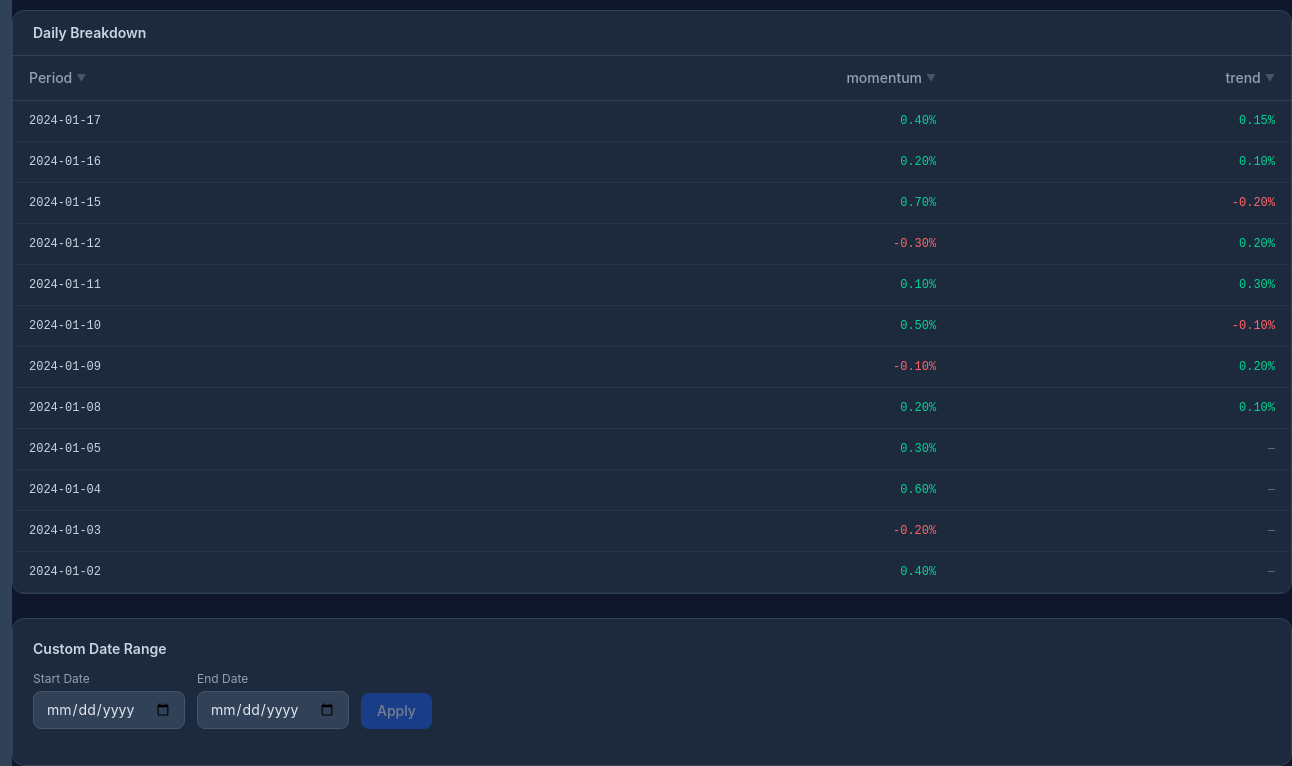
Scenario: AttributionHistory › computes a custom date-range return after Apply is clicked
The image size is (1292, 766).
(page scrolled)
In the date field below "Start Date": [109, 710] box 33,691 -> 185,729, type "2024-01-15"
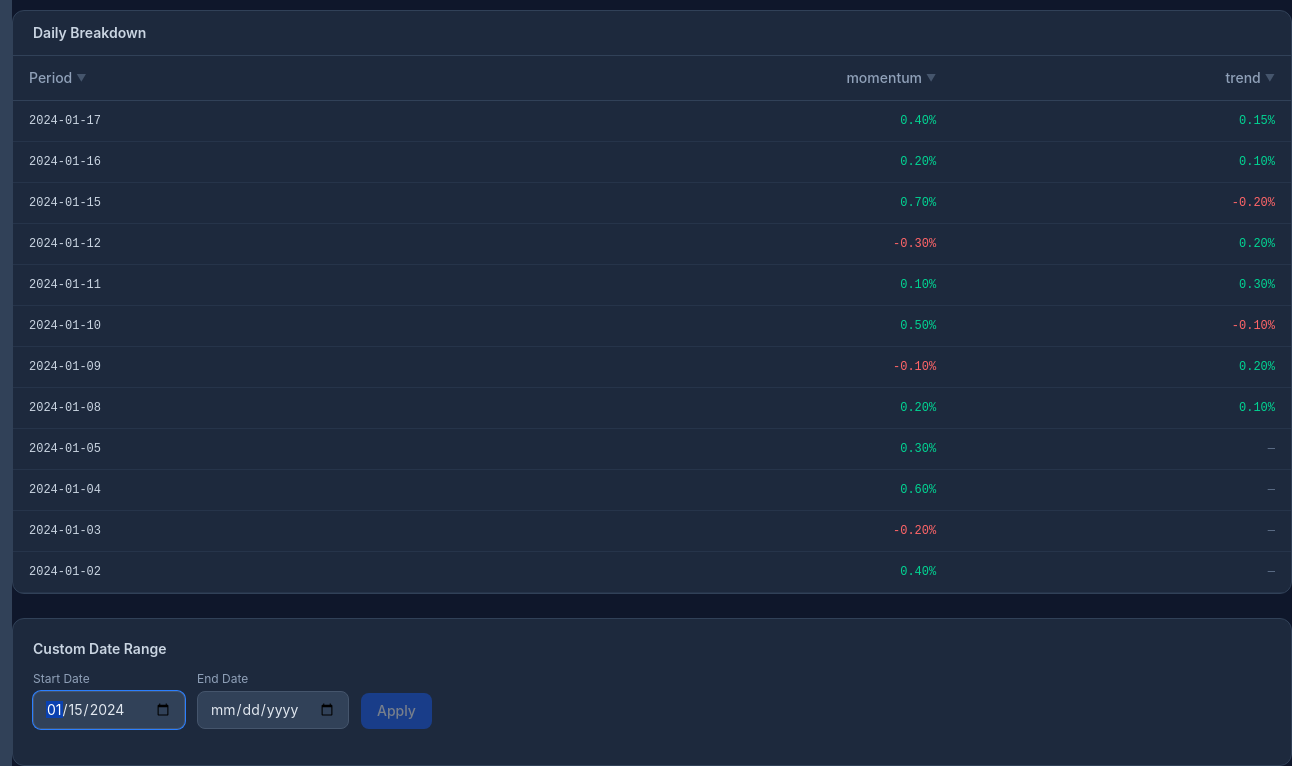
In the date field below "End Date": [273, 710] box 197,691 -> 349,729, type "2024-01-17"
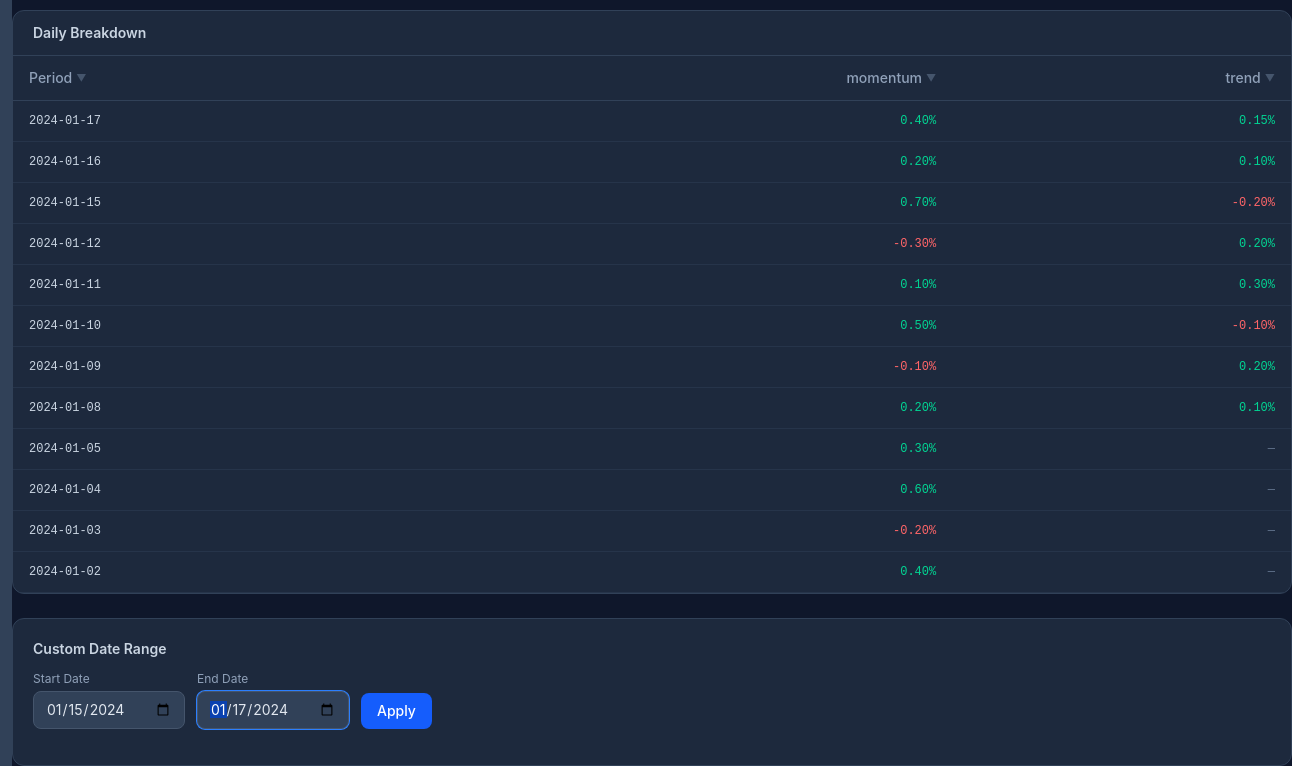
Click the button "Apply": [396, 711] box 361,693 -> 432,729
(page scrolled)
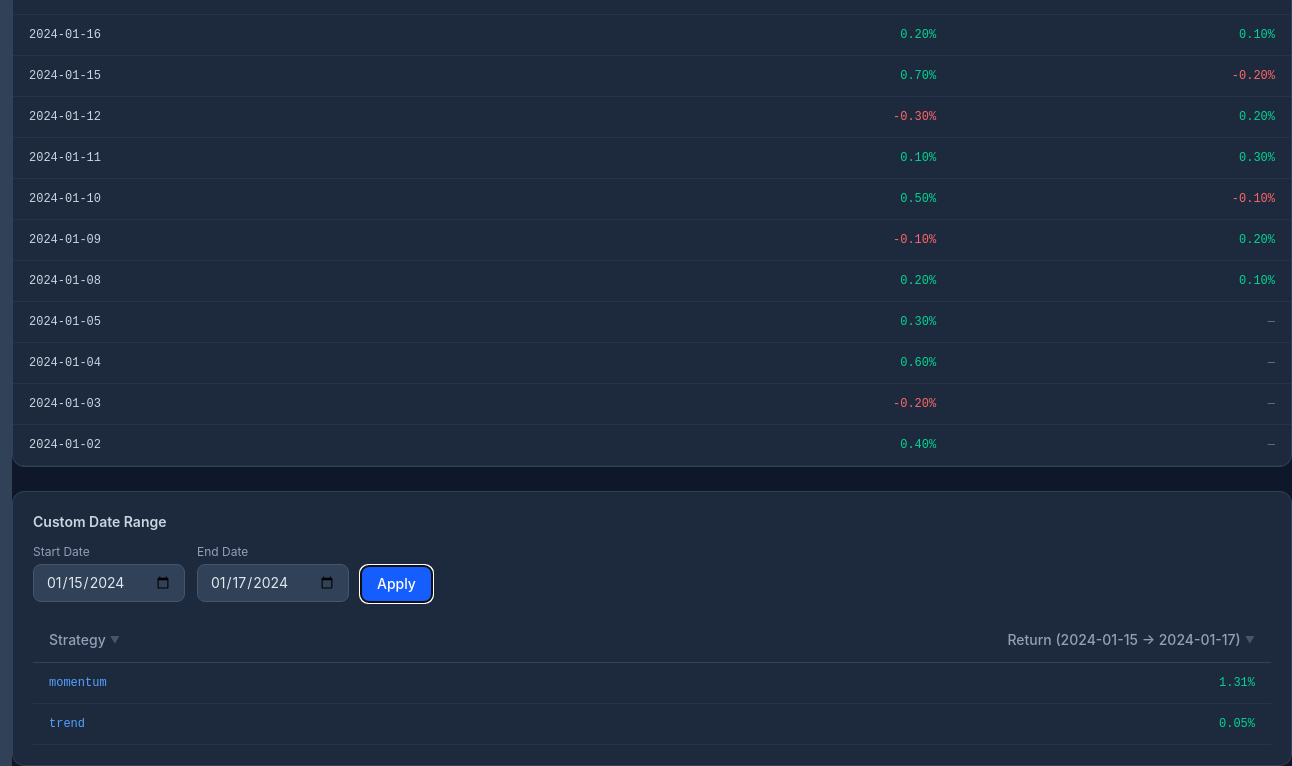
Expected: the text "Return (2024-01-15 → 2024-01-17)" is shown, 1007,631 -> 1241,648
